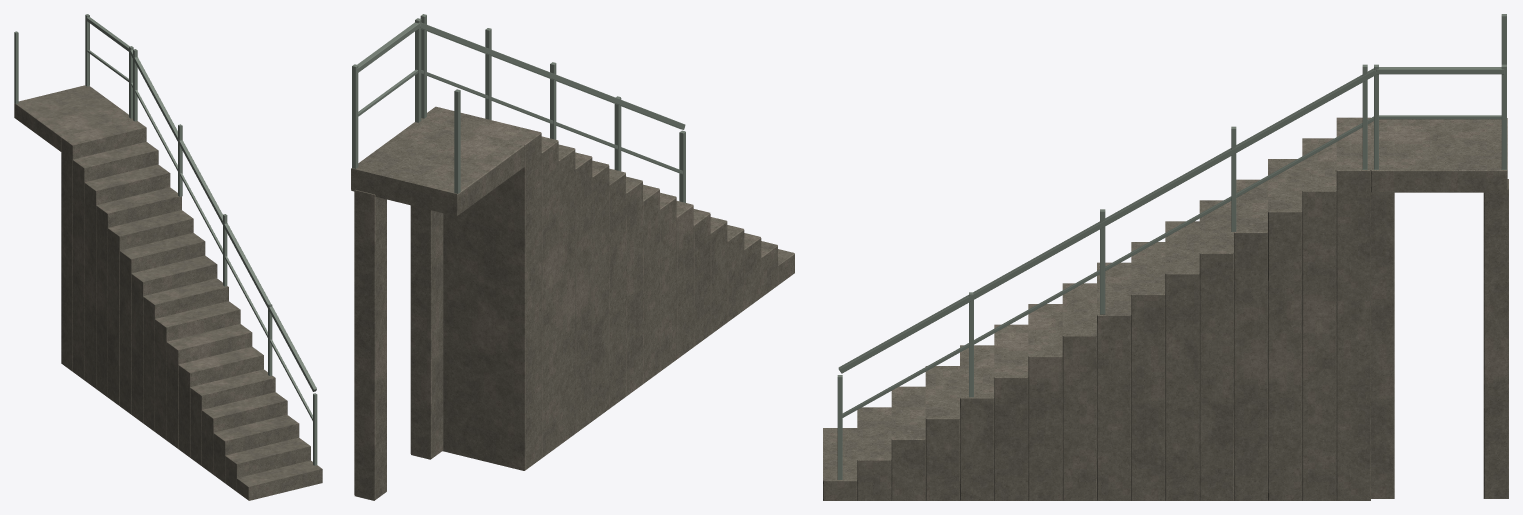
File: stairs.glb
The picture shows the model from 3 angles, left to right: view 1: azimuth 30°, elevation 25°; view 2: azimuth 150°, elevation 25°; view 3: azimuth 270°, elevation 25°; orthographic projection. The views are drawn at different scales.
Visible parts, largest first — view 1: model; view 2: model; view 3: model.
Boxes of the visible parts, x1=… form: model: x1=14, y1=14, x2=322, y2=500; model: x1=351, y1=14, x2=794, y2=500; model: x1=823, y1=14, x2=1508, y2=500.
Bounding box in the file's own units: 1.1 × 4.2 × 6.01.
Materials: 2 (1 with a texture image).
